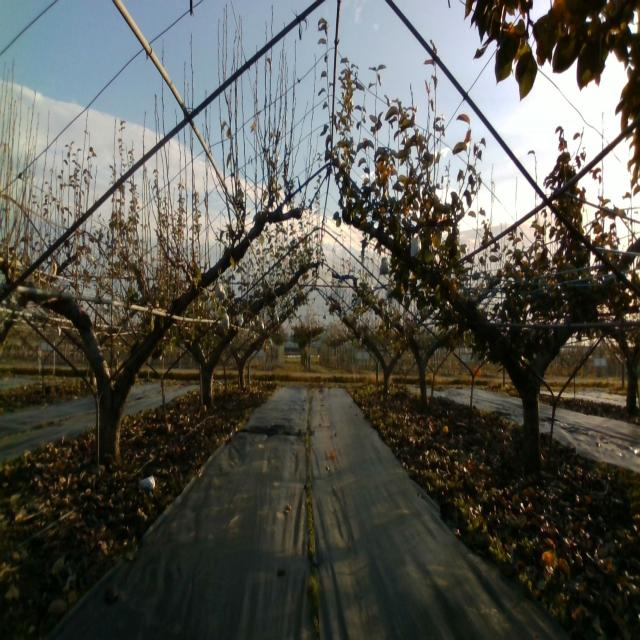pearbags: (411, 233, 422, 258)
